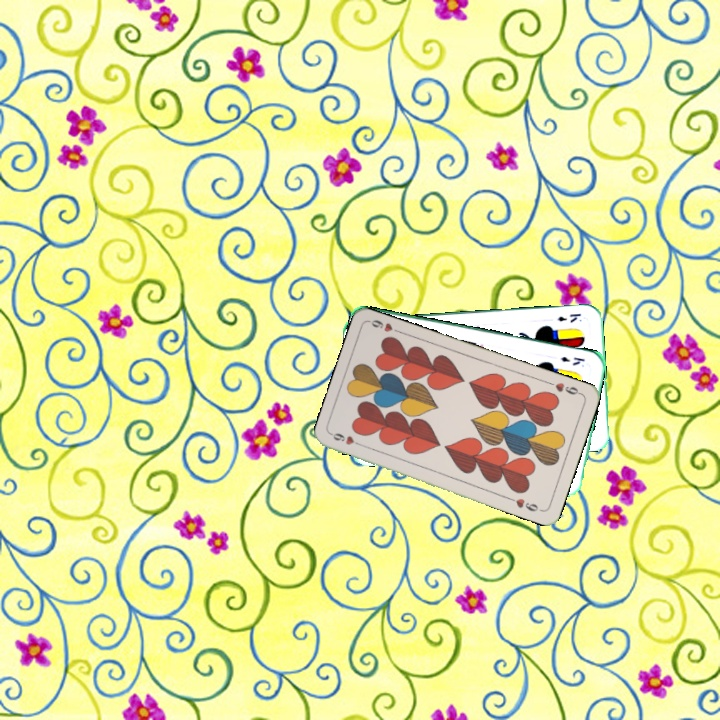EK: (556, 352, 587, 368), (553, 309, 583, 325)
H9: (328, 429, 367, 450), (545, 378, 584, 398)
